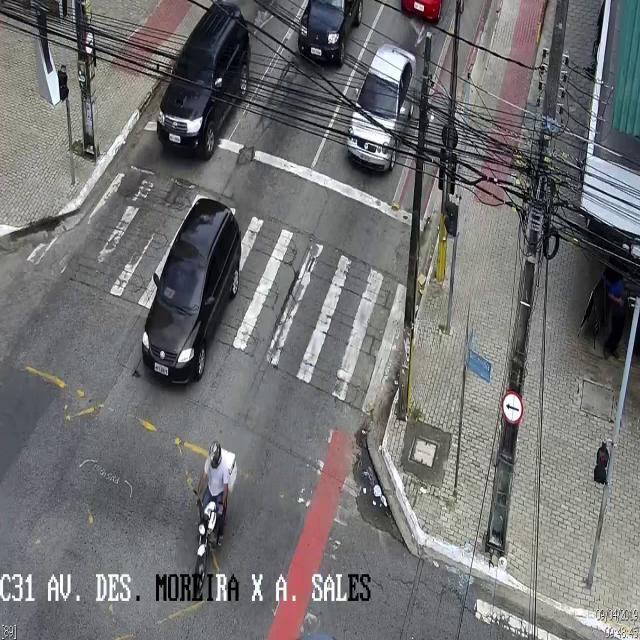Car: (140, 197, 242, 386), (158, 3, 245, 153), (349, 47, 413, 173), (298, 0, 361, 70)
Motorcycle: (188, 442, 237, 588)
